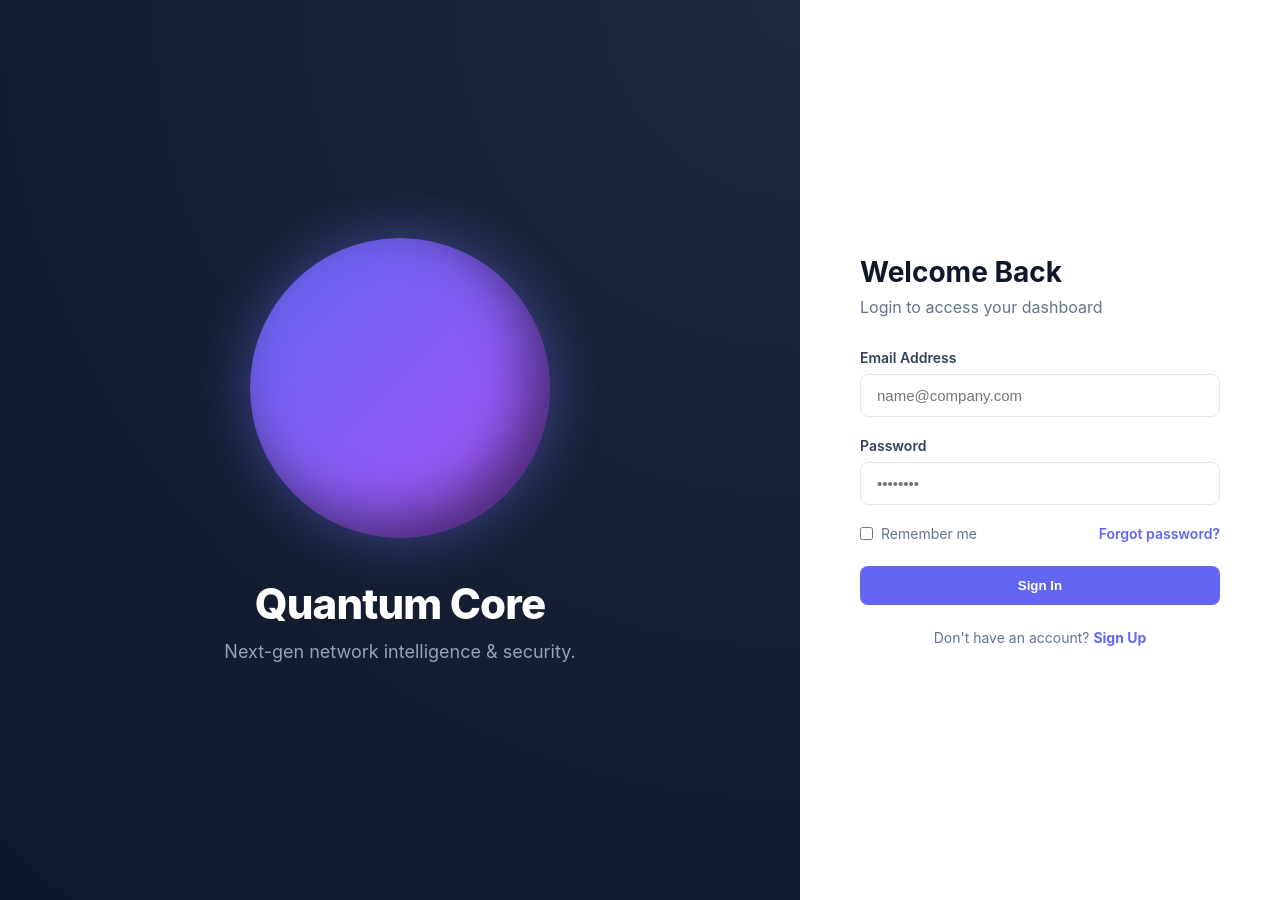
Test case: Login Component › shows loading state
Type "test@mail.com" into the field with placeholder "name@company.com" at (1040,395), box [860,374,1220,416]
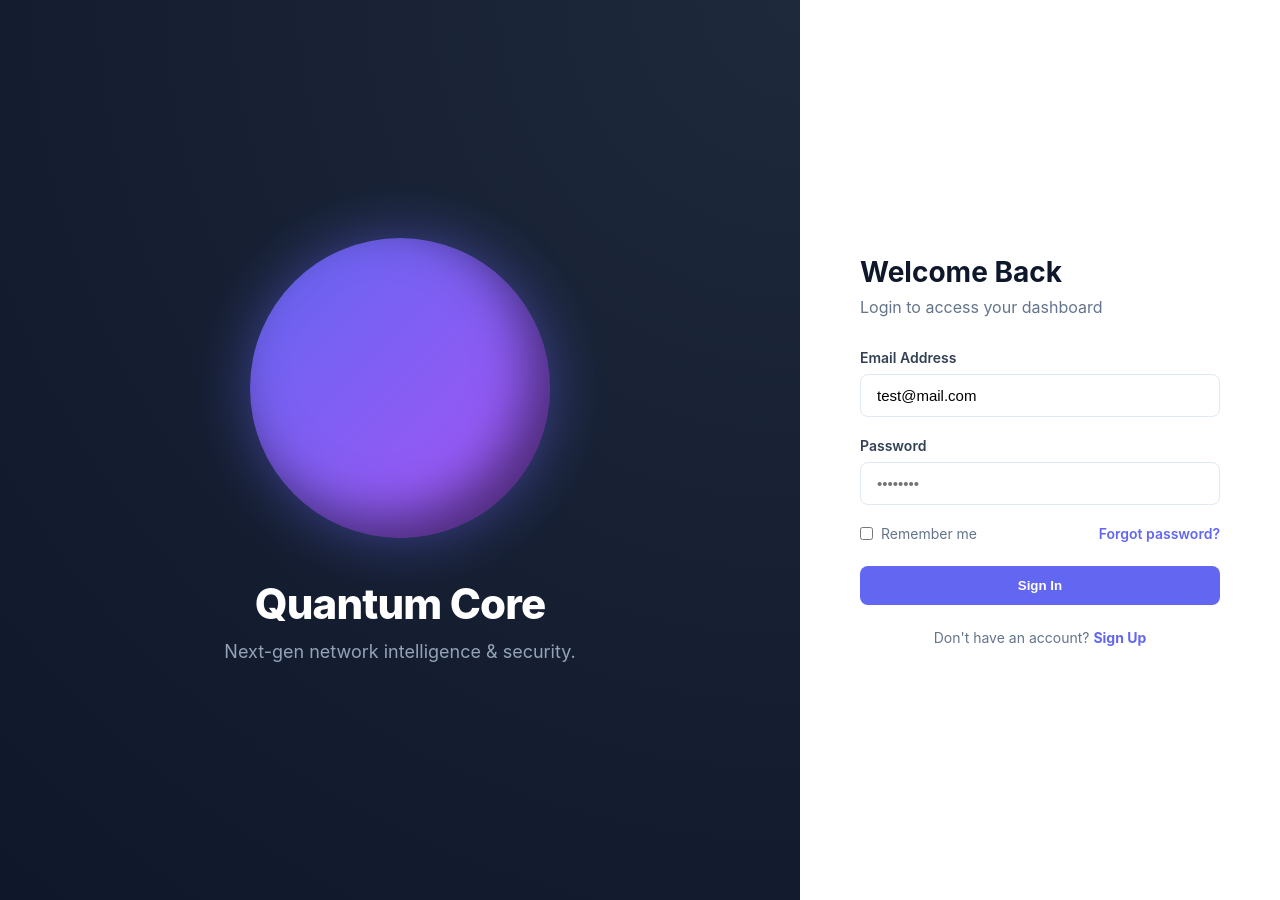
Type "password123" into the password field with placeholder "••••••••" at (1040,483), box [860,462,1220,504]
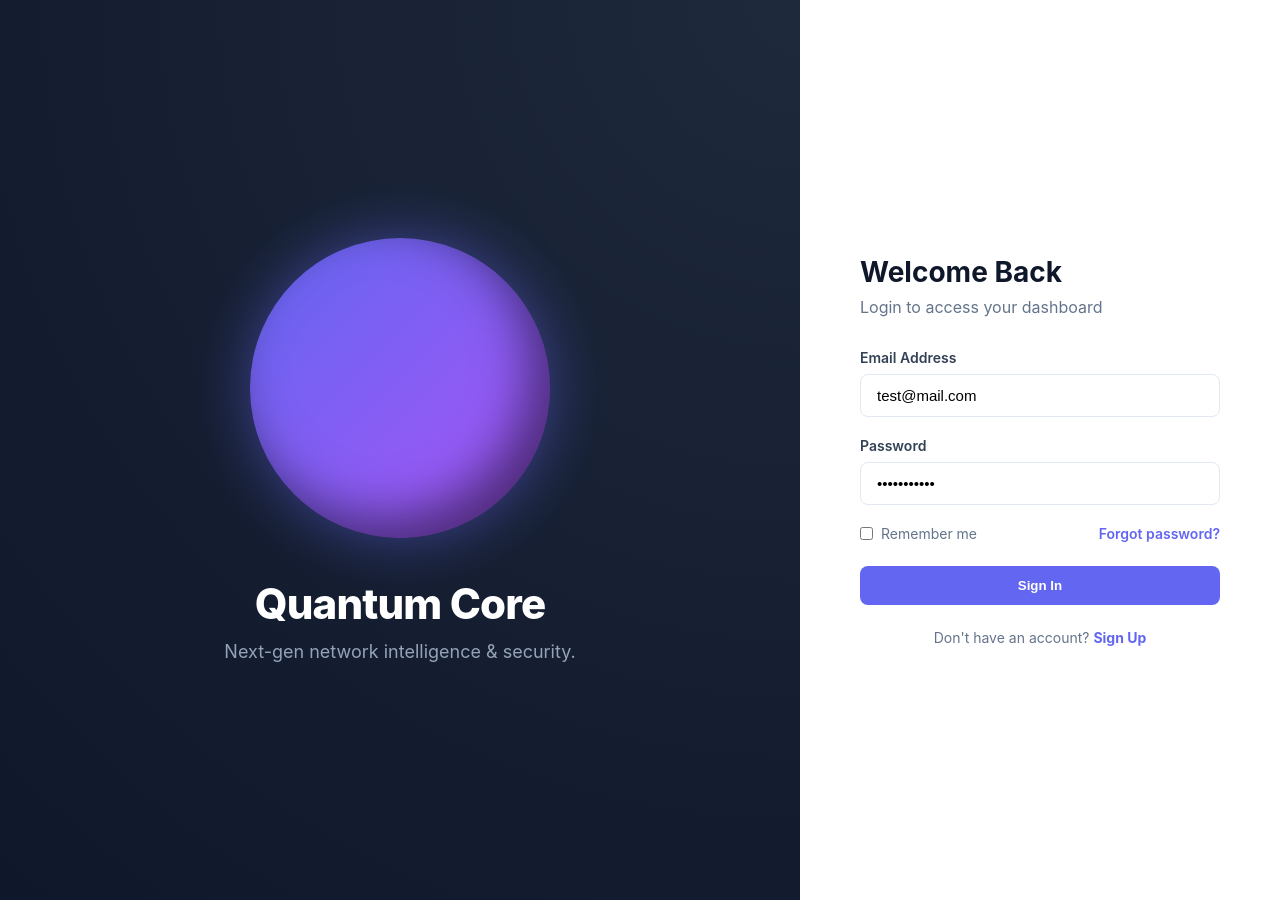
Click the button "Sign In" at (1040,585), box [860,566,1220,604]
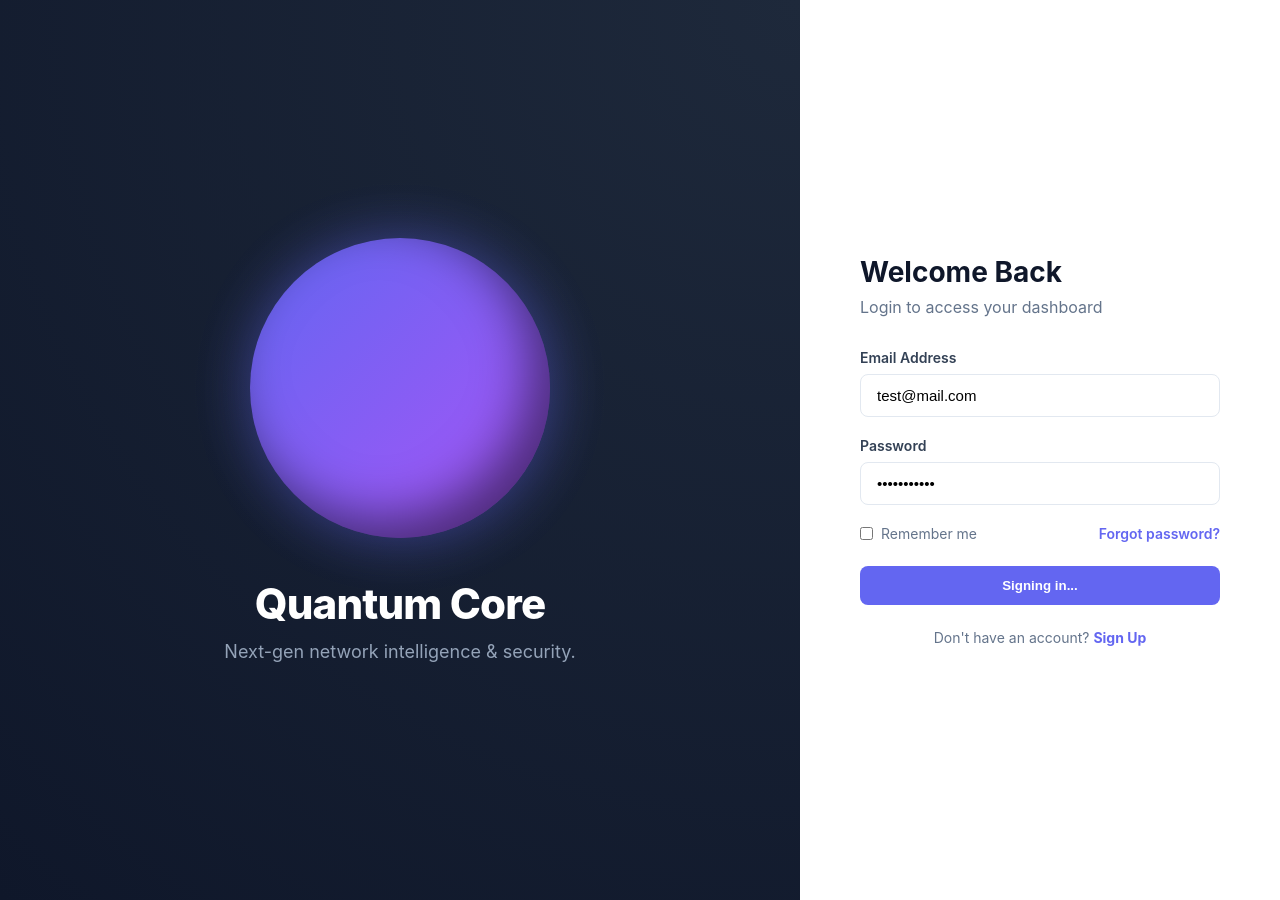
Expected: the button is disabled, [860,566,1220,604]
